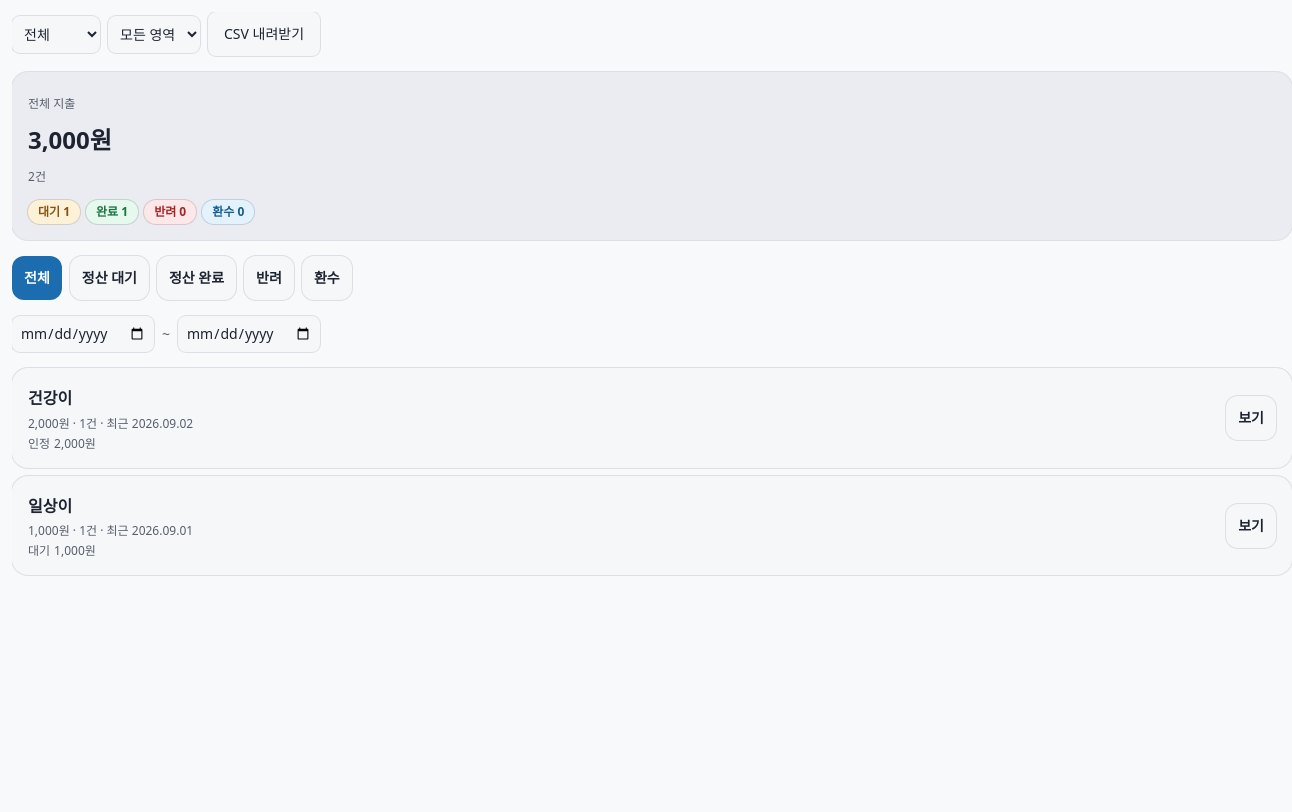
Scenario: OrgLedgerClient — 영역 필터 + CSV export (A5) › 당사자를 고르면 그 당사자가 아닌 행이 사라진다
Expected: the text "일상이" is shown, [28,495,72,517]
Expected: the text "건강이" is shown, [28,387,72,409]
Select "p-b" in the dropdown named "당사자" at point(56, 34), box [12,16,100,52]
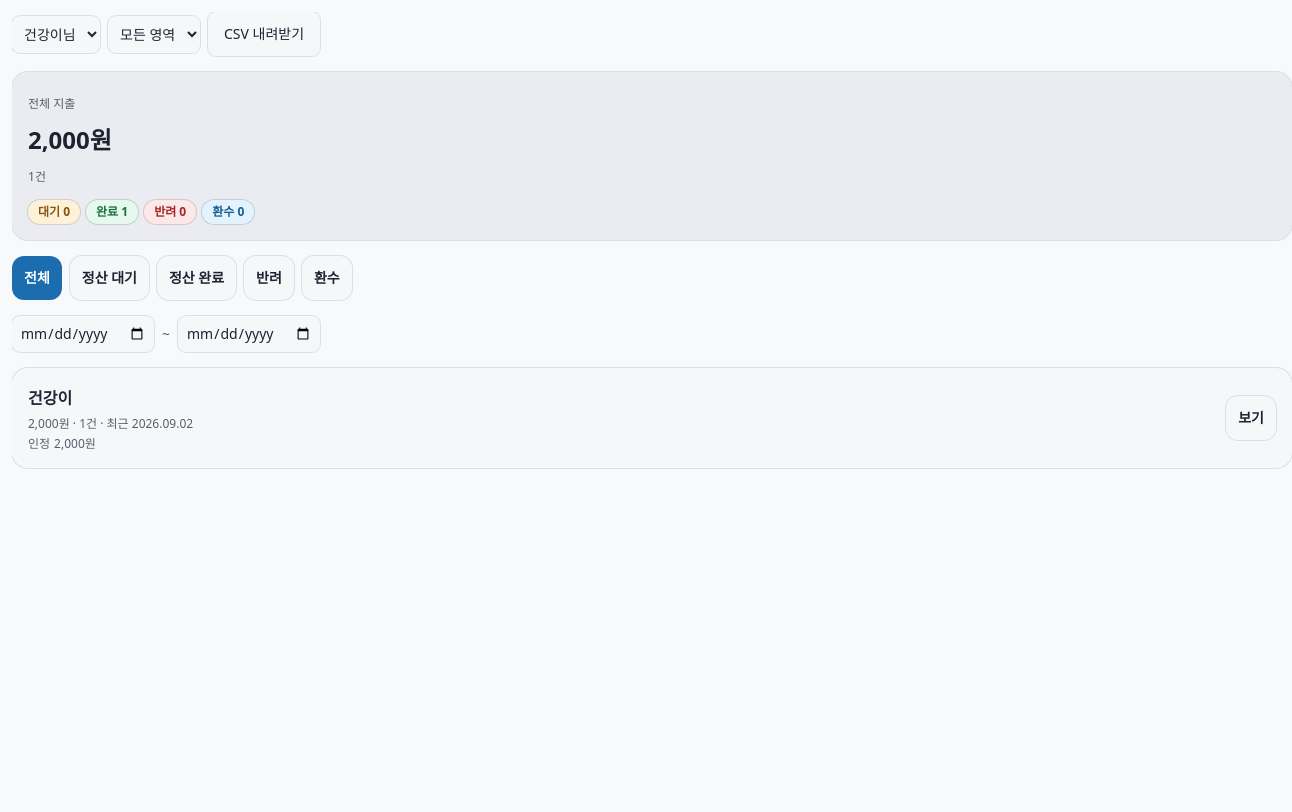
Expected: the text "건강이" is shown, [28,387,72,409]
Expected: the button "일상이" is gone
